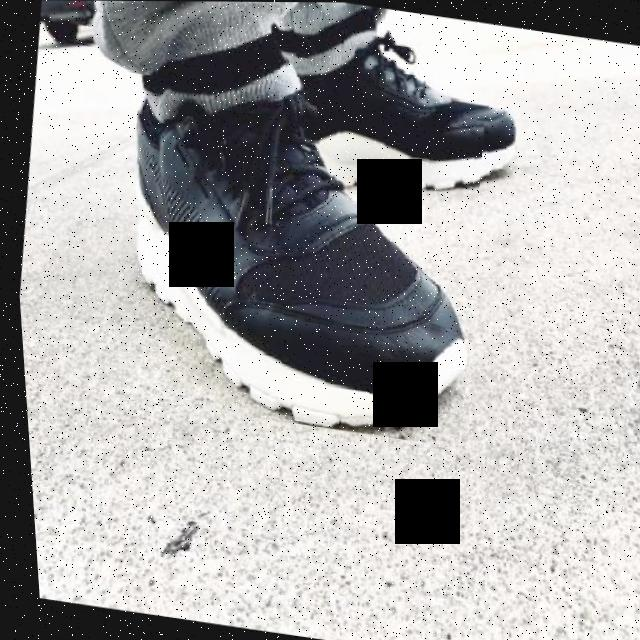shoe: (92, 63, 502, 447), (265, 15, 530, 204)
